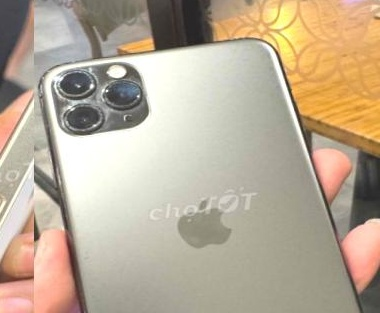scratch: (75, 238, 124, 313), (52, 95, 124, 137), (96, 69, 155, 120), (48, 60, 105, 102)
